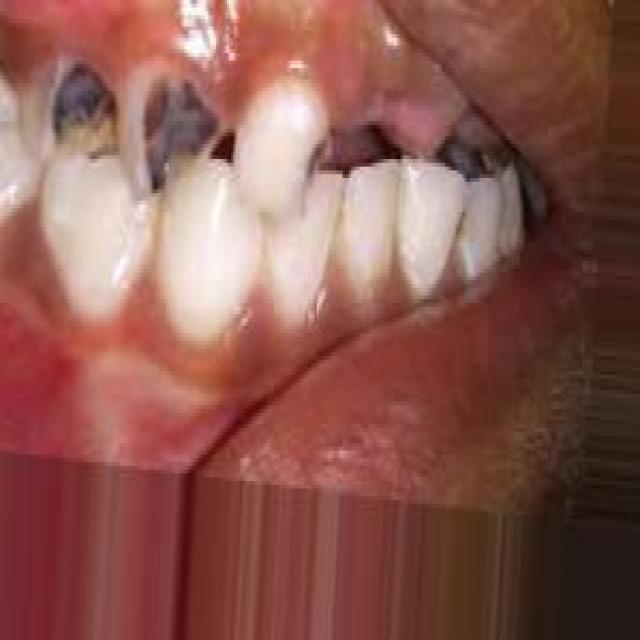caries: (126, 65, 228, 202), (26, 56, 120, 176), (283, 120, 341, 230)
